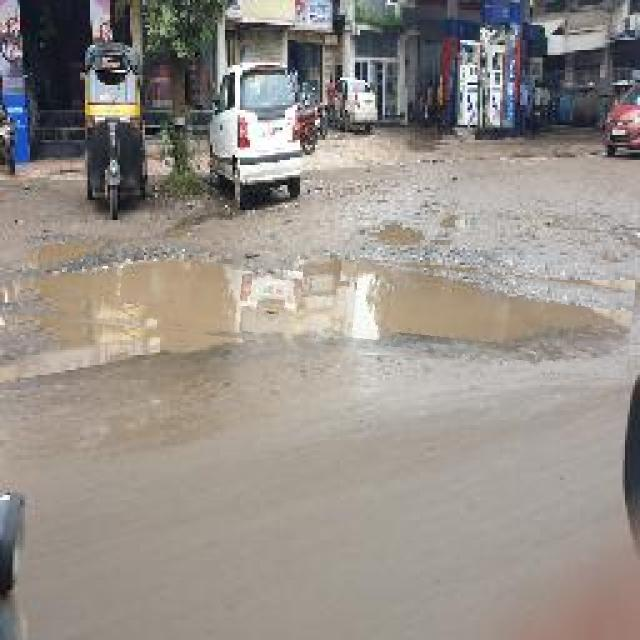puddle: (20, 243, 634, 365)
